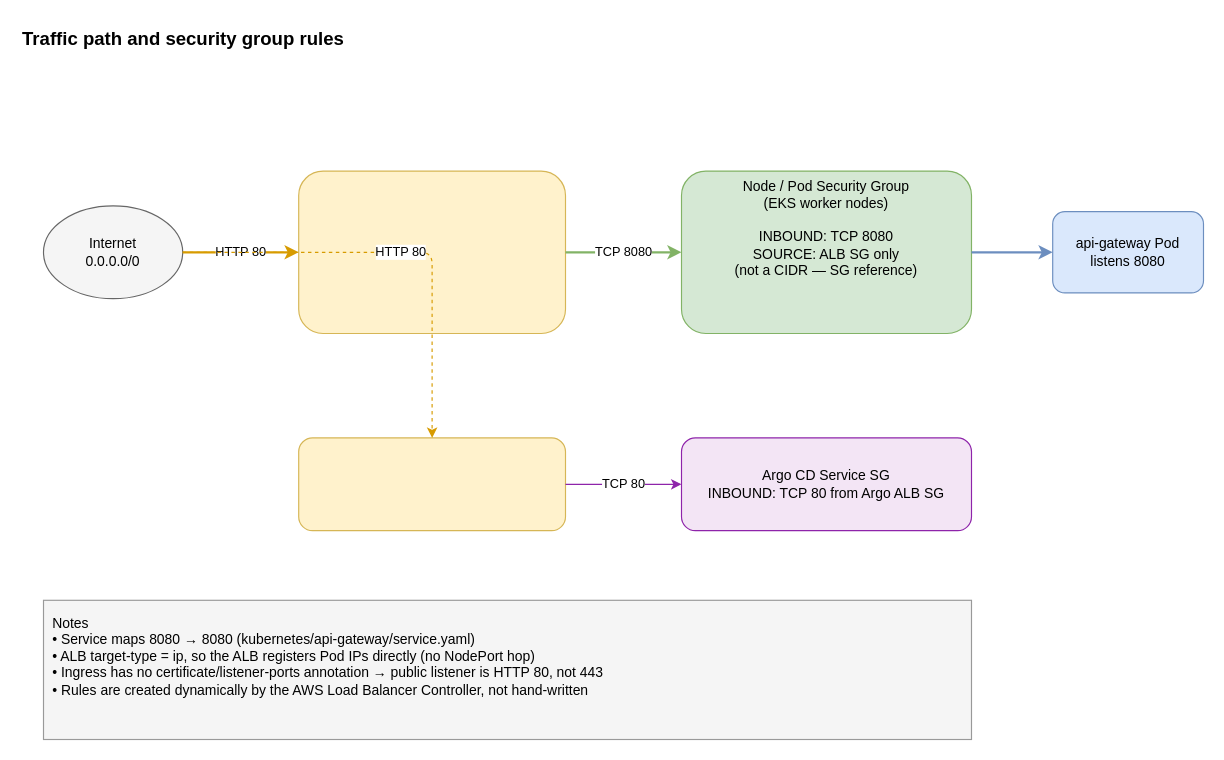
This 1224x760 diagram has some shape labels left out. Each missing label, with the centre of its shape:
"ALB Security Group (Petclinic ALB) INBOUND: TCP 80 from 0.0.0.0/0" belongs at (x=432, y=252).
"Argo CD ALB SG INBOUND: TCP 80 from 0.0.0.0/0" belongs at (x=432, y=484).
